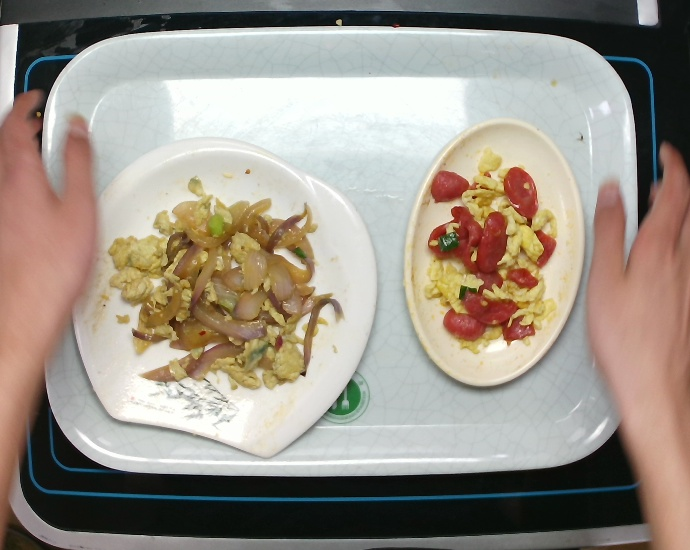JYsf-Mian_Pan: (77, 130, 385, 463)
JYsf-Tuo_Yuan_Wan: (392, 113, 587, 397)
